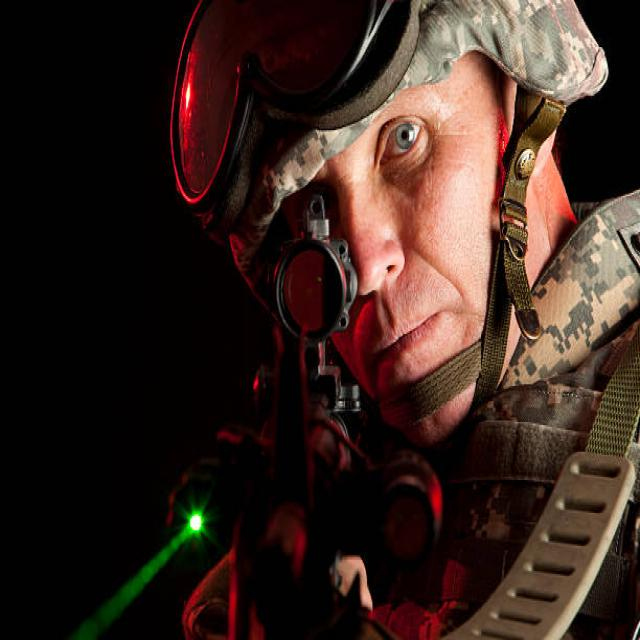soldier: (106, 10, 640, 640)
